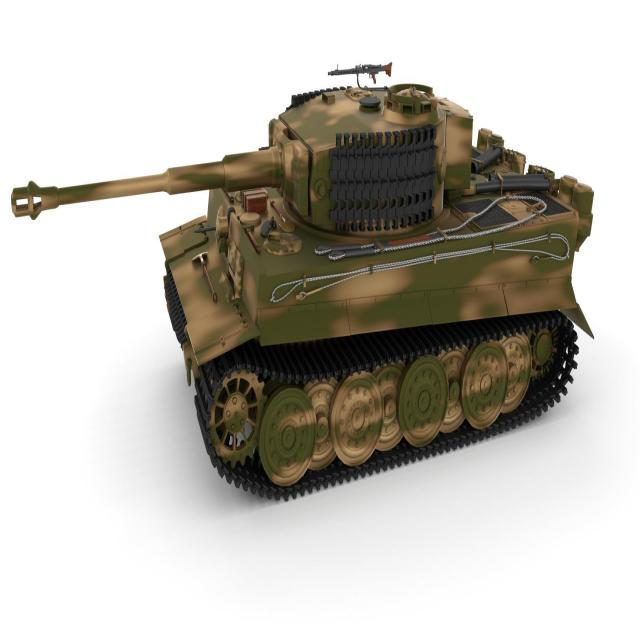Tanks: (5, 58, 606, 508)
